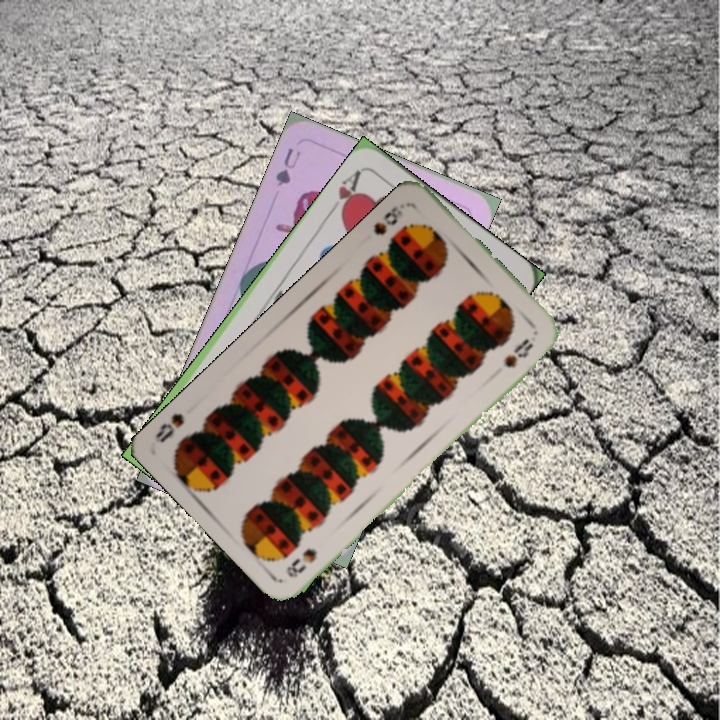GU: (271, 143, 304, 189)
HA: (325, 165, 365, 221)
S8: (369, 199, 412, 238), (281, 544, 320, 581)
